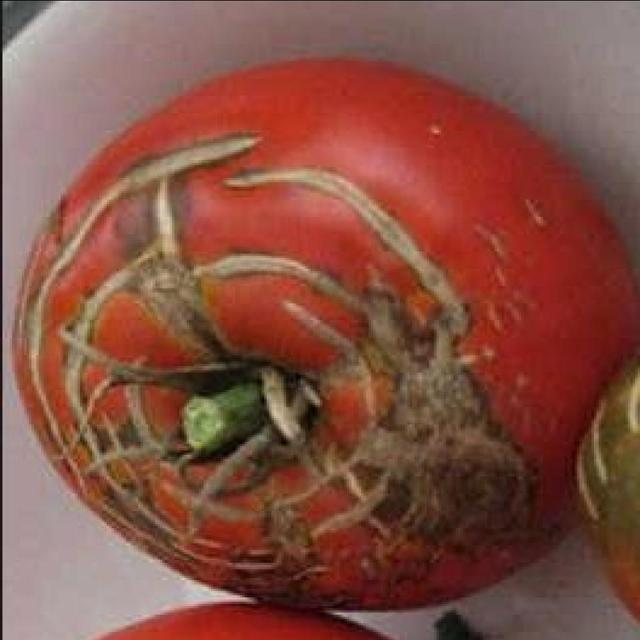Cracking Fruit: (36, 50, 408, 312)
